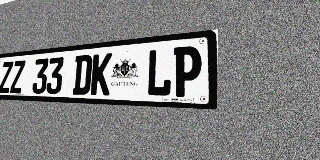3: (46, 57, 64, 94), (32, 58, 49, 94)
D: (72, 54, 93, 95)
K: (90, 53, 112, 95)
L: (145, 48, 173, 97)
P: (172, 45, 202, 97)
Z: (10, 60, 25, 93), (0, 61, 13, 93)
